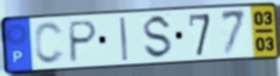7: (220, 8, 247, 58), (187, 13, 213, 58)
C: (32, 20, 66, 67)
I: (118, 16, 130, 63)
P: (68, 19, 100, 65)
S: (142, 13, 175, 61)
